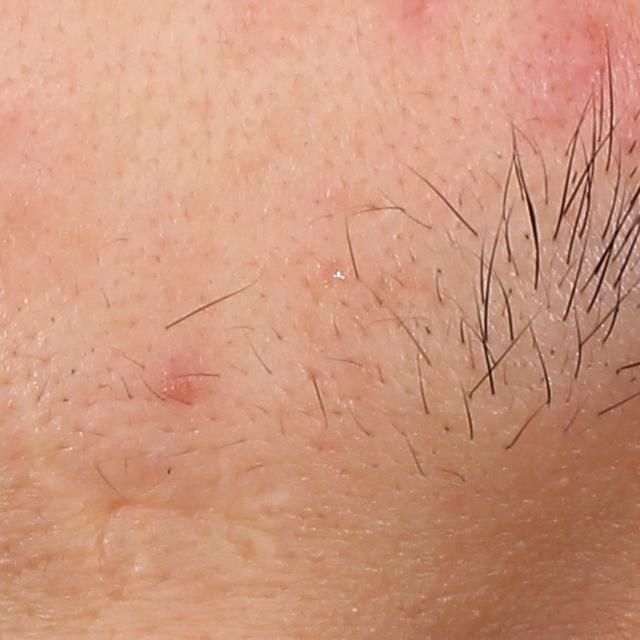other: (37, 441, 293, 602), (378, 157, 492, 277)
papule: (528, 16, 612, 104), (158, 366, 200, 406)
